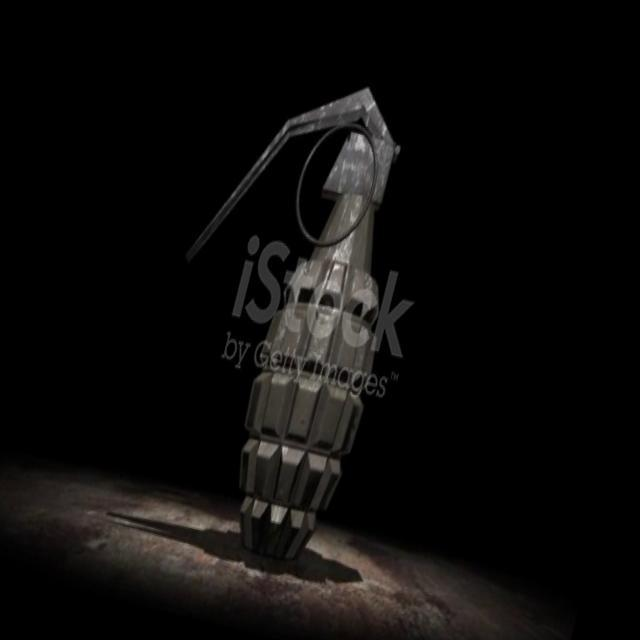grenade: (125, 49, 448, 562)
